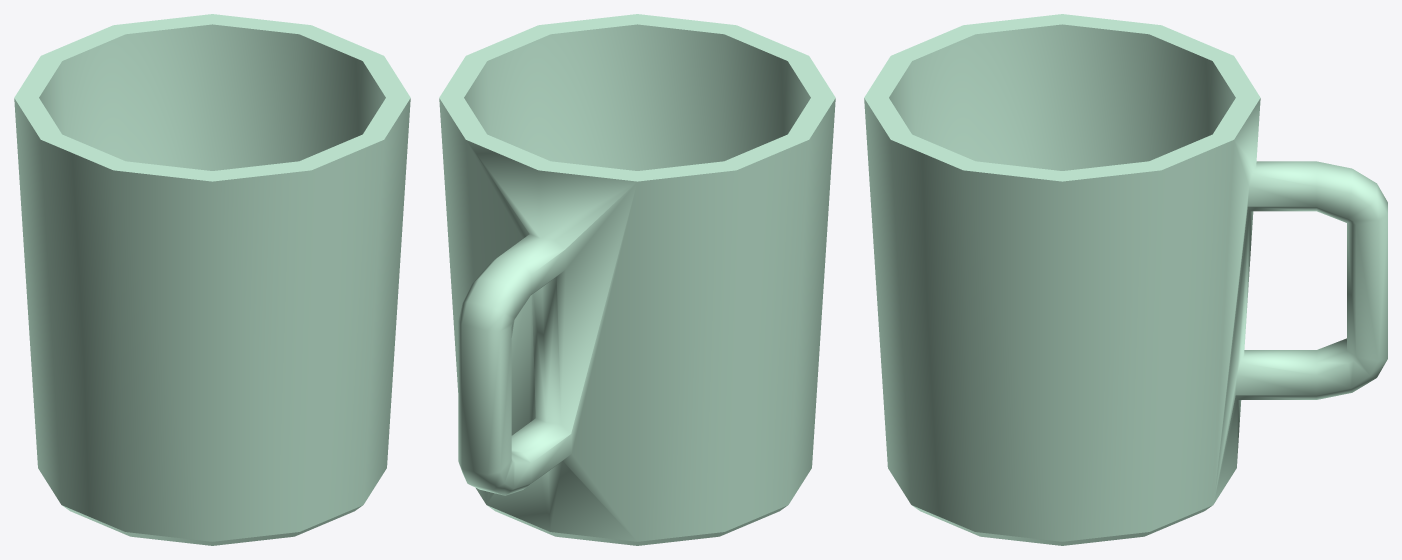
File: Nguyen lieu coc.FBX
3 views of the same model, side by side, from view 1: azimuth 30°, elevation 25°; view 2: azimuth 150°, elevation 25°; view 3: azimuth 270°, elevation 25° (orthographic).
Parts seen in each view (by area): view 1: Cylinder148; view 2: Cylinder148; view 3: Cylinder148.
Boxes of the visible parts, box(x1,y1,x2,y2) form: Cylinder148: box(14, 14, 410, 545); Cylinder148: box(439, 14, 835, 545); Cylinder148: box(864, 14, 1387, 545).
Size of the model in its own units: 1.34 by 1.41 by 1.77.
